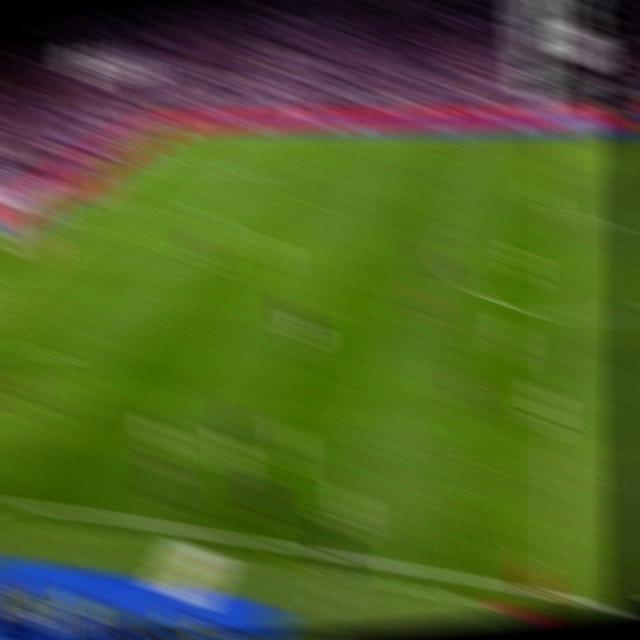bigarea_bottom_inner: (40, 337, 68, 367)
bigarea_top_inner: (236, 160, 260, 178)
bigarea_top_outter: (117, 155, 142, 172)
bottom_arc_area_intersection: (126, 262, 153, 283)
corner: (164, 125, 189, 140)
halfcircle_bottom: (546, 298, 577, 331)
halfcircle_top: (548, 203, 576, 230)
midline_bottom_intersection: (546, 581, 578, 610)
midline_top_intersection: (550, 126, 575, 147)
smallarea_bottom_inner: (7, 264, 31, 285)
smallarea_top_inner: (108, 191, 132, 207)
top_arc_area_intersection: (194, 200, 217, 218)
